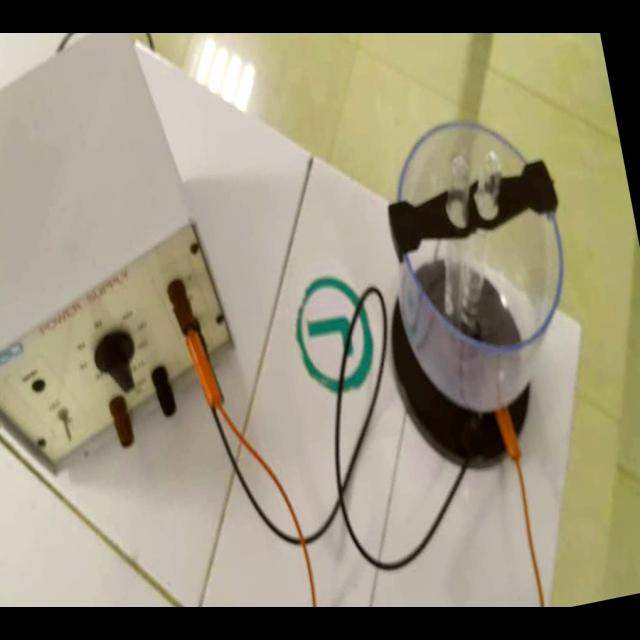Electrolyzer: (347, 101, 604, 490)
